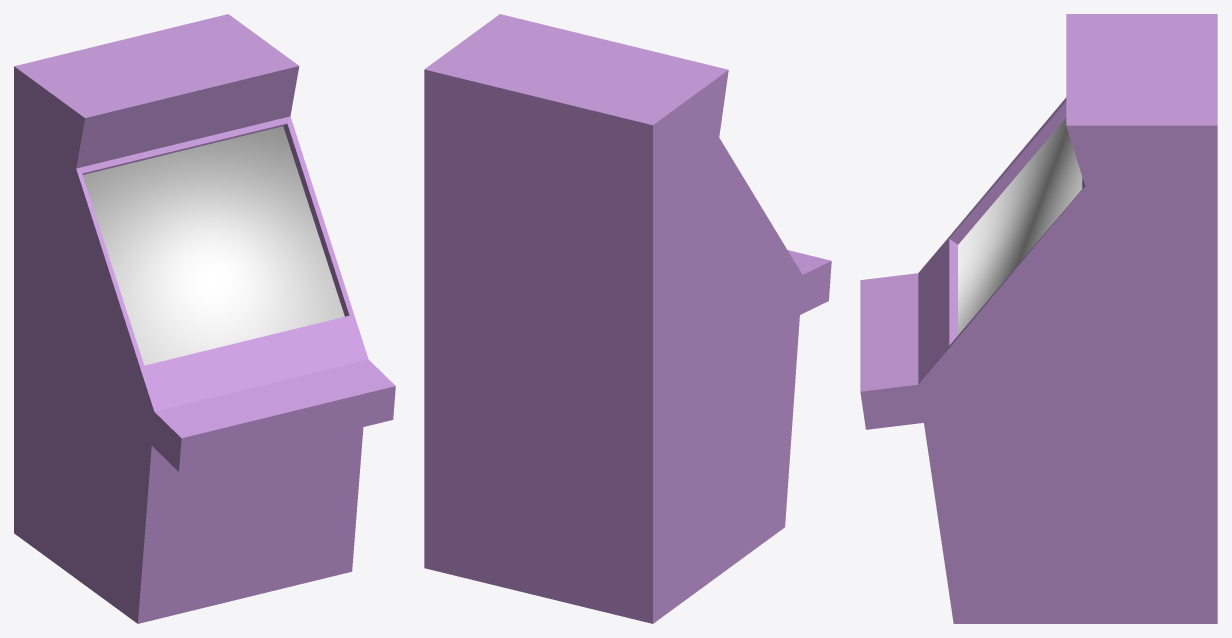
File: arcade.glb
The picture shows the model from 3 angles, left to right: view 1: azimuth 30°, elevation 25°; view 2: azimuth 150°, elevation 25°; view 3: azimuth 270°, elevation 25°; orthographic projection. The views are drawn at different scales.
Parts seen in each view (by area): view 1: Cube; view 2: Cube; view 3: Cube.
Part boxes in pixels (box(x1,y1,x2,y2)): Cube: box(14, 14, 395, 623); Cube: box(424, 14, 831, 623); Cube: box(860, 14, 1217, 623).
Size of the model in its own units: 2 by 4.17 by 2.71.
